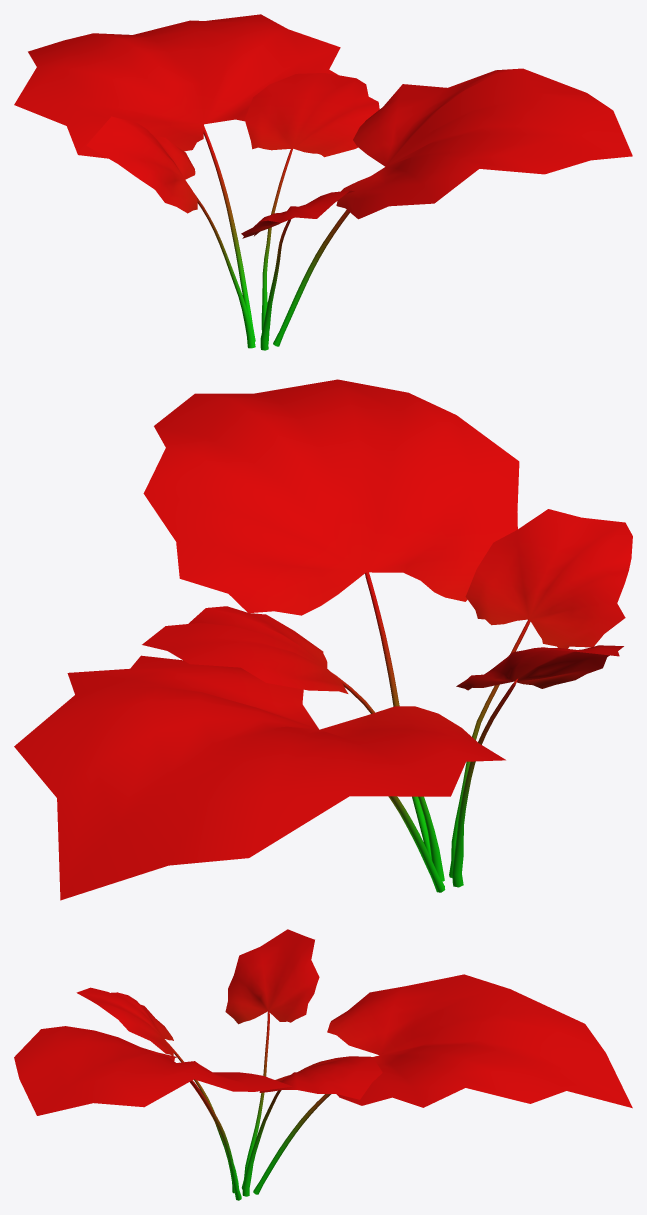
The model's file is Coltsfoot_LOD0_Var4_xbtkdfvqx.fbx.
The picture shows the model from 3 angles, top to bottom: view 1: azimuth 30°, elevation 25°; view 2: azimuth 150°, elevation 25°; view 3: azimuth 270°, elevation 25°; orthographic projection. The views are drawn at different scales.
Parts seen in each view (by area): view 1: _qjgq_Var4_LOD0; view 2: _qjgq_Var4_LOD0; view 3: _qjgq_Var4_LOD0.
Boxes of the visible parts, left/top/right/bottom form: _qjgq_Var4_LOD0: left=14, top=14, right=632, bottom=350; _qjgq_Var4_LOD0: left=14, top=379, right=632, bottom=900; _qjgq_Var4_LOD0: left=14, top=929, right=632, bottom=1200.
Size of the model in its own units: 21.5 by 11.97 by 30.36.
